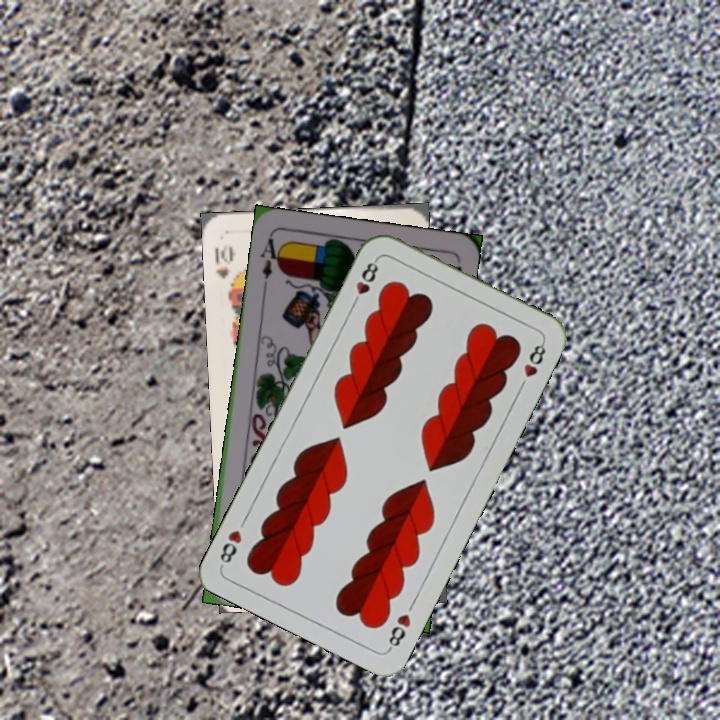EA: (256, 232, 285, 281)
H8: (348, 255, 381, 310), (384, 609, 414, 653)
S10: (210, 241, 238, 296)
